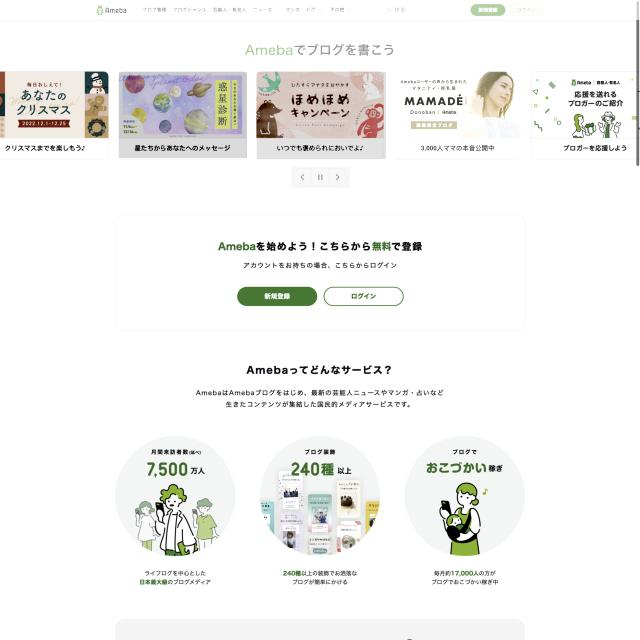Spinner: (392, 70, 522, 157), (257, 72, 386, 159), (119, 72, 247, 158)
bag: (0, 0, 640, 20)
date picker: (242, 38, 398, 62)
dropdown: (291, 167, 350, 188)
